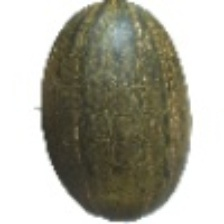honeydew: (43, 3, 187, 192)
